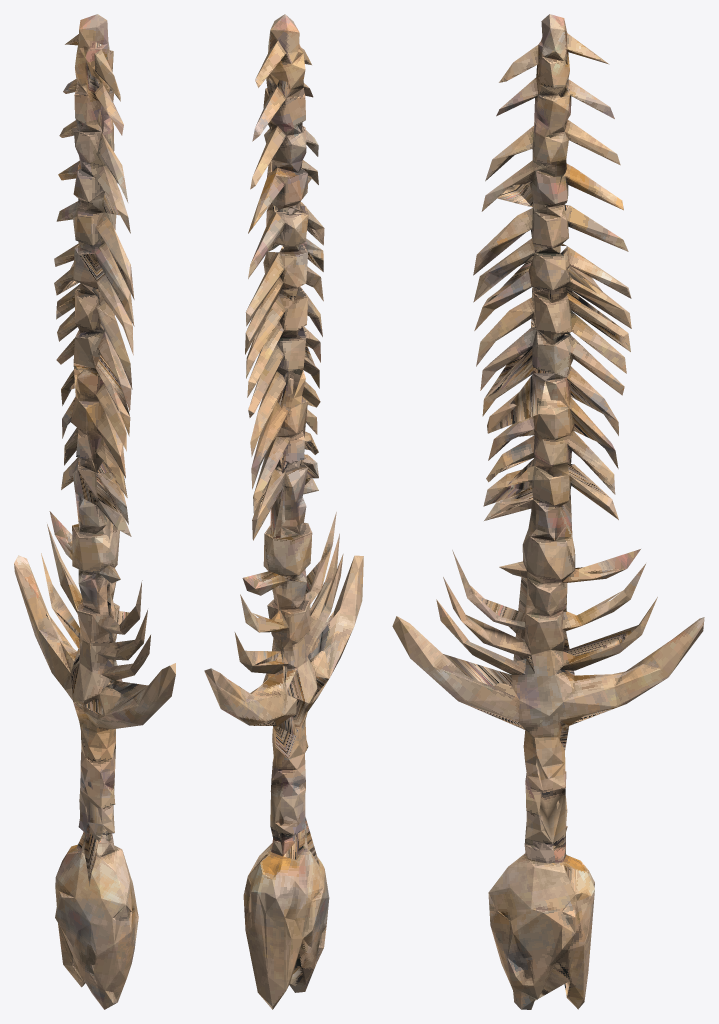
Rendered from item_fish_fishsword.glb.
3 views of the same model, side by side, from view 1: azimuth 30°, elevation 25°; view 2: azimuth 150°, elevation 25°; view 3: azimuth 270°, elevation 25° (orthographic).
Parts seen in each view (by area): view 1: SkeletonFishSword_02; view 2: SkeletonFishSword_02; view 3: SkeletonFishSword_02.
Boxes of the visible parts, left/top/right/bottom form: SkeletonFishSword_02: left=14, top=14, right=175, bottom=1009; SkeletonFishSword_02: left=204, top=14, right=363, bottom=1009; SkeletonFishSword_02: left=392, top=14, right=704, bottom=1009.
Bounding box in the file's own units: 0.0515 × 0.7196 × 0.2041.
1 material, 1 textured.
